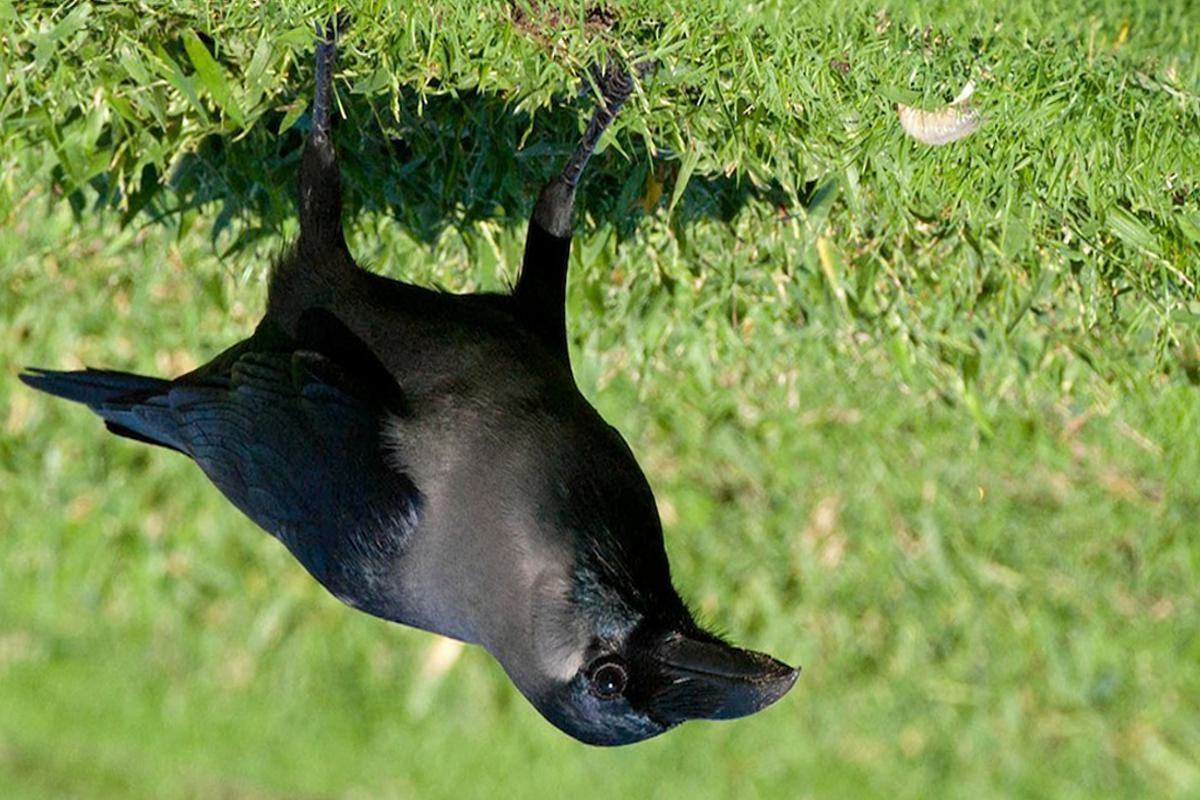crow: (113, 46, 813, 747)
